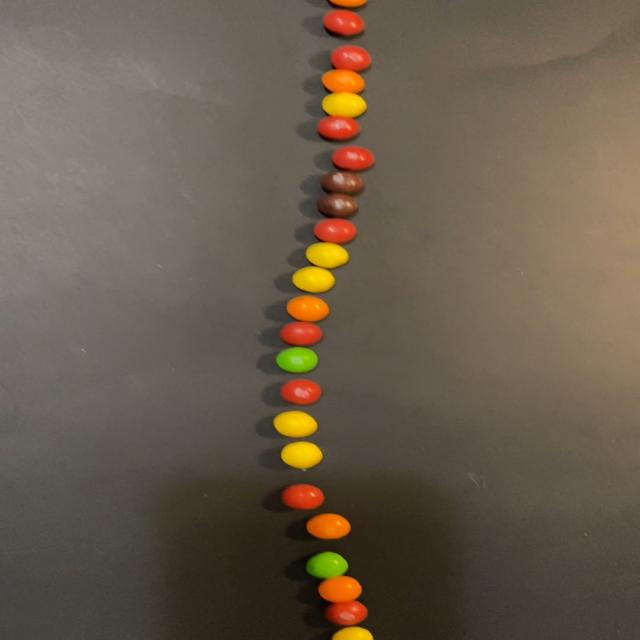smartie: (321, 91, 367, 117), (317, 577, 361, 604), (273, 411, 316, 438), (305, 553, 348, 580), (306, 514, 350, 540), (292, 266, 334, 293), (280, 442, 322, 469), (313, 218, 356, 244), (324, 602, 367, 628), (286, 296, 329, 322), (305, 242, 348, 268), (275, 347, 317, 373), (281, 485, 324, 510), (280, 379, 321, 405), (322, 9, 364, 34), (331, 146, 374, 170), (279, 322, 322, 346), (321, 68, 364, 92), (330, 45, 371, 70), (317, 115, 358, 140), (319, 171, 363, 194), (317, 193, 357, 218), (331, 628, 373, 640)
